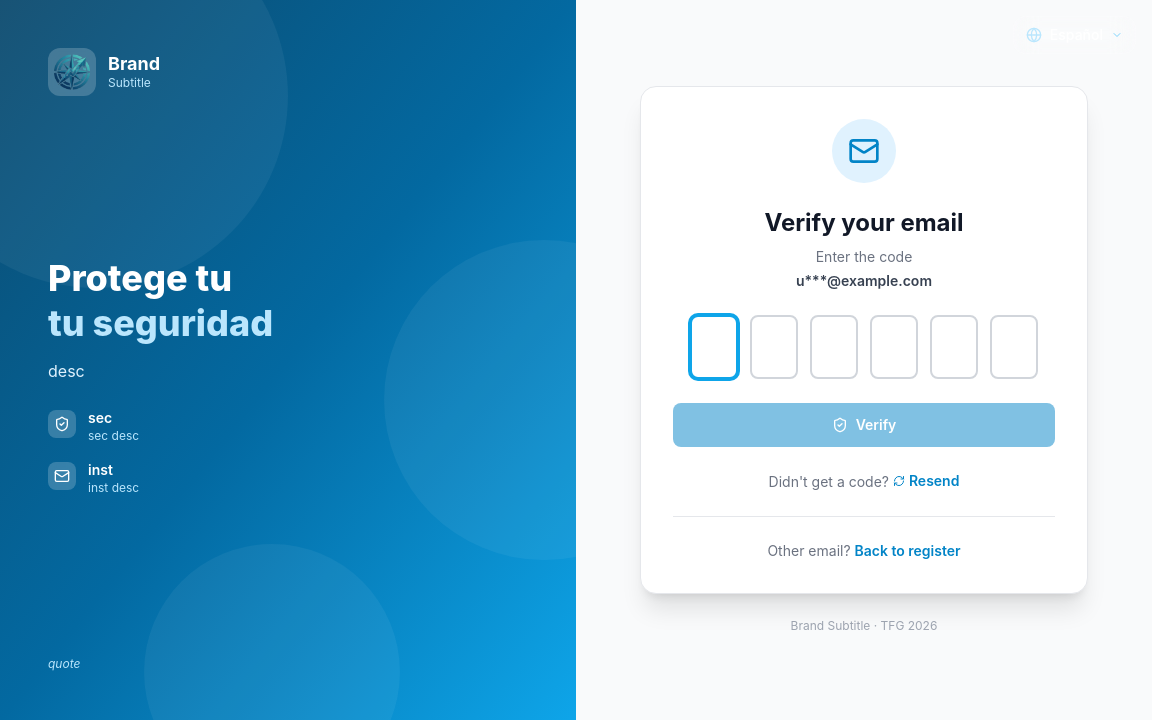
Scenario: VerifyEmailPage › resends code and starts a cooldown
Click the button "Resend": click(926, 481) [893,471,959,491]
Wait 1000 ms
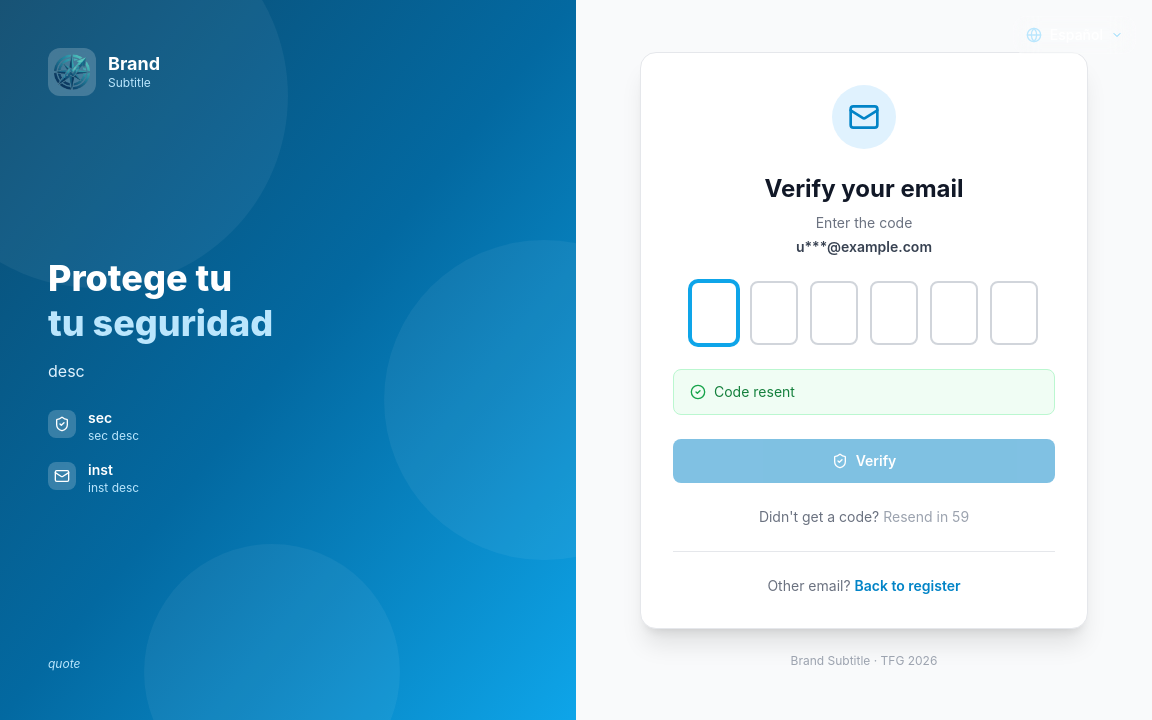
Result: the text "Code resent" is shown at [714,382,795,402]
Result: the text "Resend in 59" is shown at [883,508,969,524]
